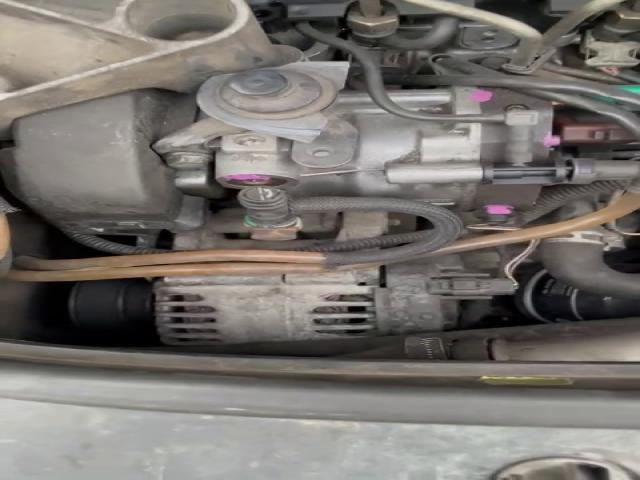alternator: (153, 250, 519, 347)
high_pressure_pump: (210, 82, 577, 225)
